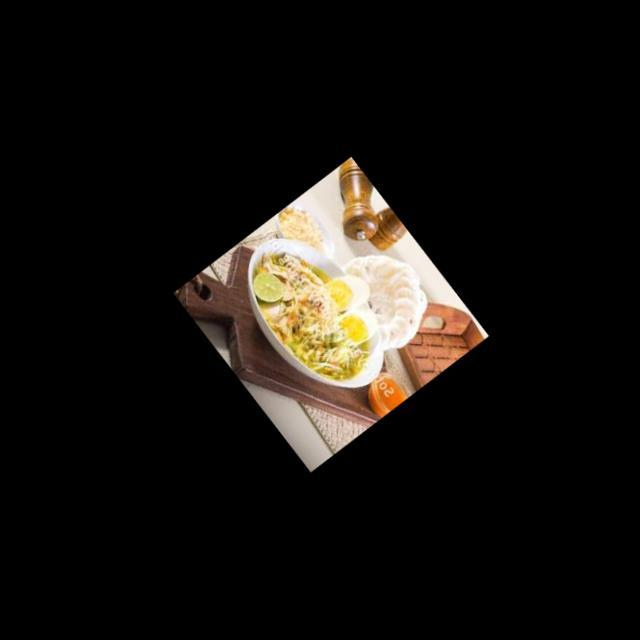Soto: (243, 233, 382, 399)
